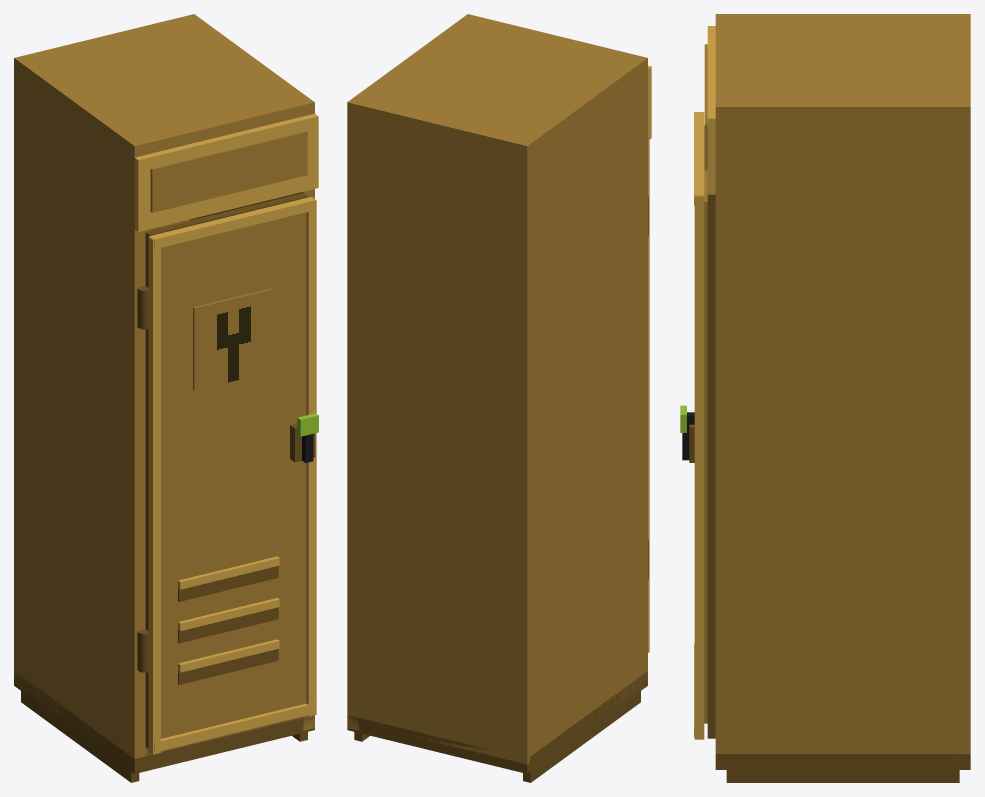
The model's file is CMU3DInheritedClosetsToolclosetCloud.glb.
The picture shows the model from 3 angles, left to right: view 1: azimuth 30°, elevation 25°; view 2: azimuth 150°, elevation 25°; view 3: azimuth 270°, elevation 25°; orthographic projection. The views are drawn at different scales.
Visible parts, largest first — view 1: full-depth side wall -1, separate closed steel door, top structural cap, header inset field, header front band, original departmental identity emblem, raised vertical door molding -1, rear structural panel, raised vertical door molding 1, bottom pan, door shadow gasket, raised horizontal door molding 1.44 (+9 smaller); view 2: rear structural panel, full-depth side wall -1, top structural cap, full-depth side wall 1, bottom pan, grounded cabinet foot -1, raised vertical door molding -1; view 3: full-depth side wall 1, top structural cap, rear structural panel, raised vertical door molding 1, door shadow gasket, bottom pan, grounded cabinet foot 1, separate closed steel door, header front band, full-depth side wall -1, raised horizontal door molding 1.44.
Boxes of the visible parts, x1,y1,x2,y2 form: full-depth side wall -1: [14, 55, 146, 758]; separate closed steel door: [161, 212, 306, 738]; top structural cap: [14, 14, 314, 159]; header inset field: [150, 130, 307, 212]; header front band: [134, 113, 318, 231]; original departmental identity emblem: [193, 288, 272, 390]; raised vertical door molding -1: [148, 236, 160, 754]; rear structural panel: [14, 14, 200, 680]; raised vertical door molding 1: [306, 197, 316, 716]; bottom pan: [14, 671, 314, 773]; door shadow gasket: [145, 193, 307, 748]; raised horizontal door molding 1.44: [149, 197, 315, 249]; rear structural panel: [347, 97, 534, 764]; full-depth side wall -1: [516, 55, 647, 753]; top structural cap: [347, 14, 647, 160]; full-depth side wall 1: [347, 14, 478, 730]; bottom pan: [347, 671, 647, 773]; grounded cabinet foot -1: [523, 691, 640, 782]; raised vertical door molding -1: [648, 140, 649, 652]; full-depth side wall 1: [715, 101, 970, 767]; top structural cap: [715, 14, 970, 122]; rear structural panel: [955, 14, 970, 759]; raised vertical door molding 1: [694, 195, 704, 739]; door shadow gasket: [707, 194, 715, 738]; bottom pan: [715, 754, 970, 769]; grounded cabinet foot 1: [726, 770, 959, 782]; separate closed steel door: [704, 126, 707, 723]; header front band: [707, 26, 715, 194]; full-depth side wall -1: [715, 14, 970, 19]; raised horizontal door molding 1.44: [694, 112, 704, 205].
Bounding box in the file's own units: 0.5 × 1.7 × 0.66.
6 materials, 1 textured.
